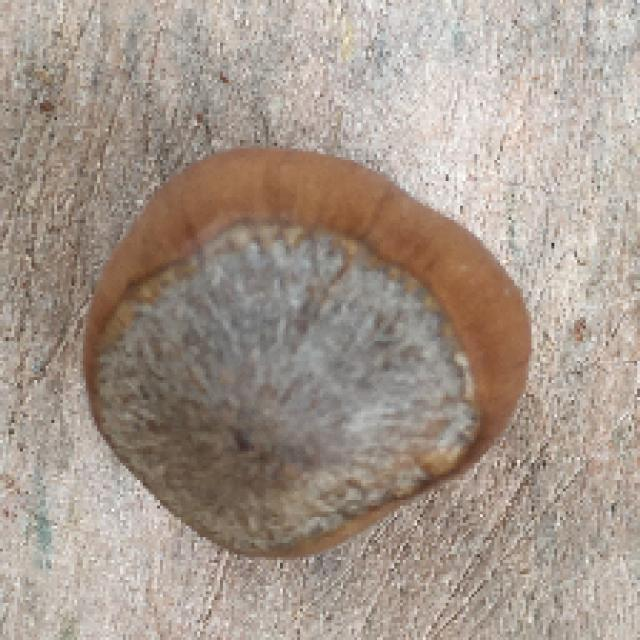damagedHazelnut: (86, 143, 536, 572)
